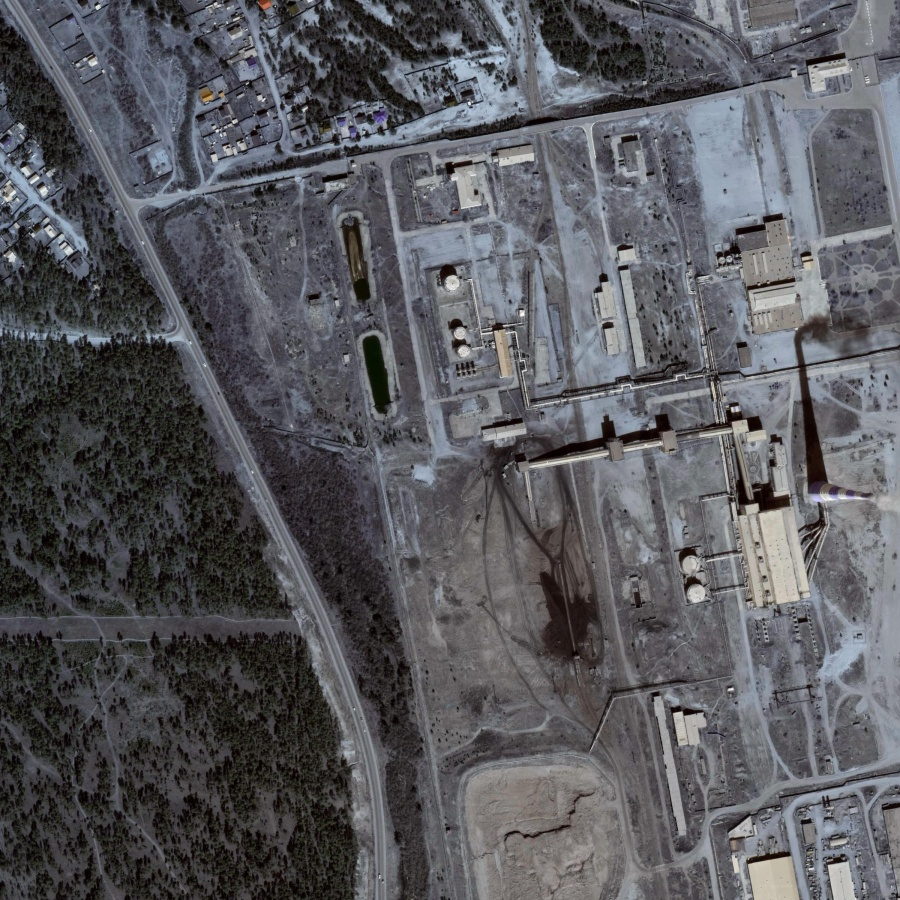PowerPlant: (419, 251, 897, 679)
